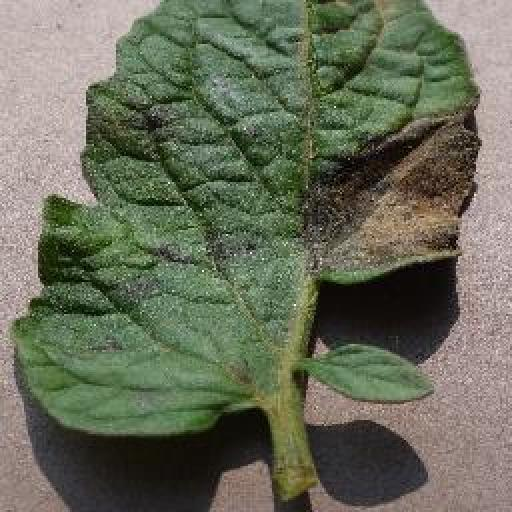disease_tomato: (4, 0, 484, 439)
